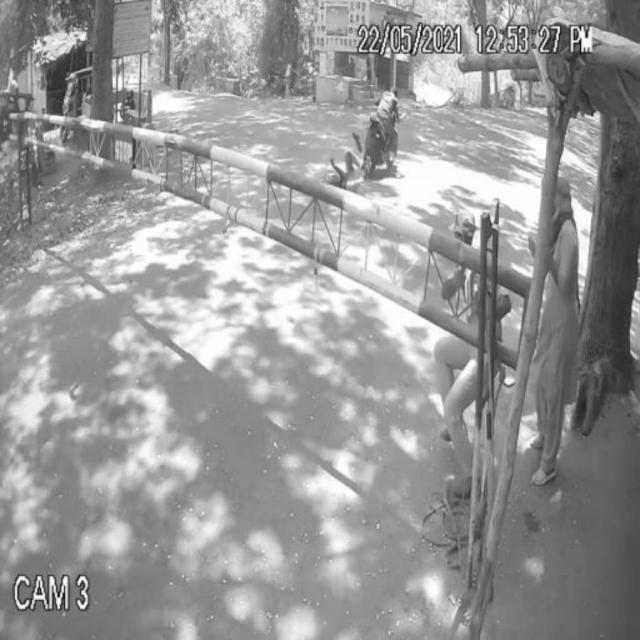person: (439, 203, 506, 511), (525, 167, 580, 487)
vehicle: (349, 75, 407, 177)
